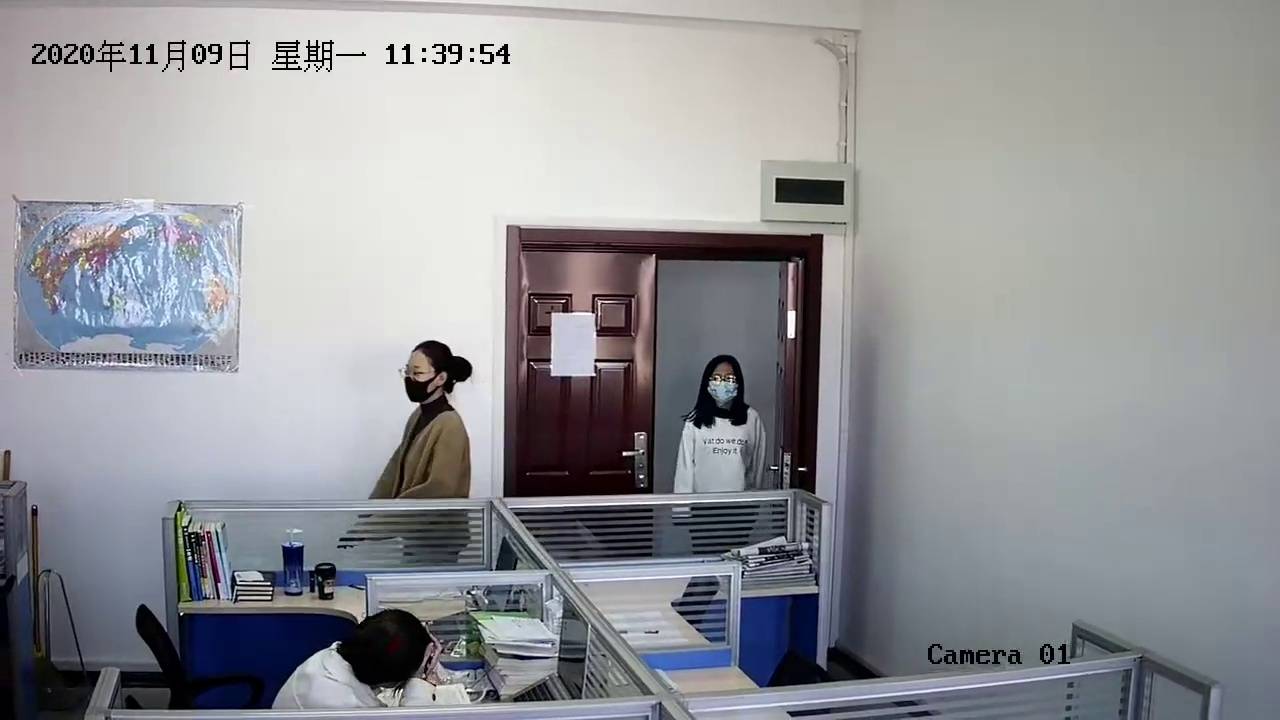mask: (396, 346, 453, 412), (701, 352, 745, 413)
